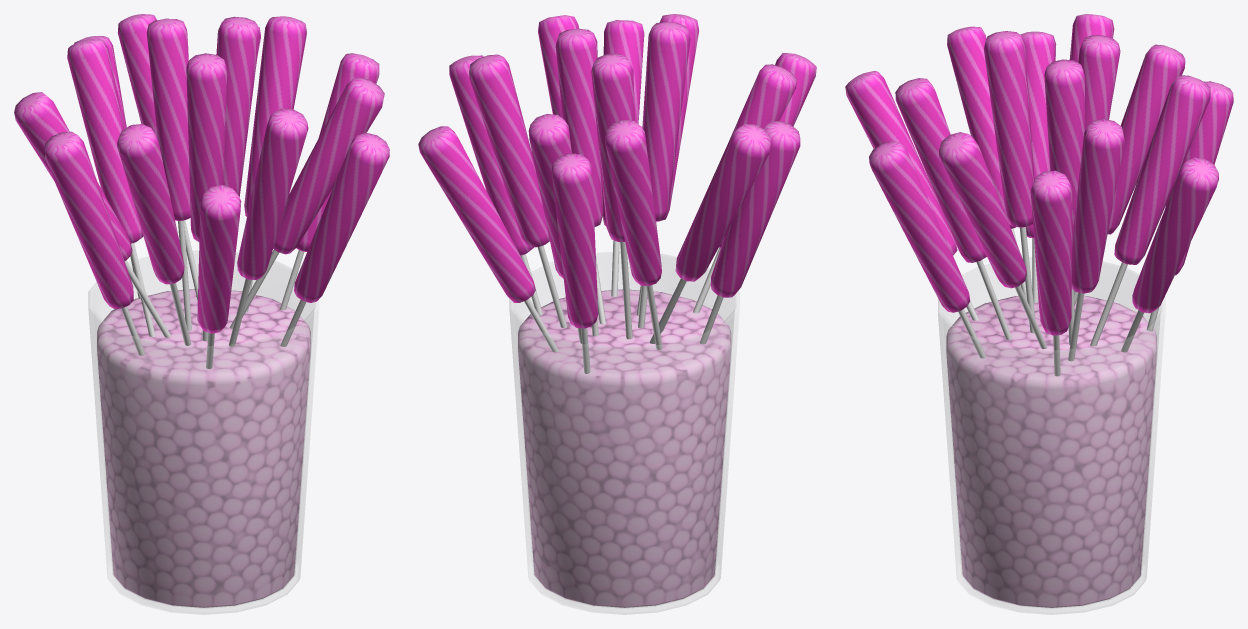
The model's file is BuffetCandy02_3.FBX.
The picture shows the model from 3 angles, left to right: view 1: azimuth 30°, elevation 25°; view 2: azimuth 150°, elevation 25°; view 3: azimuth 270°, elevation 25°; orthographic projection.
Visible parts, largest first — view 1: BuffetCandy02_3; view 2: BuffetCandy02_3; view 3: BuffetCandy02_3.
Boxes of the visible parts, left/top/right/bottom form: BuffetCandy02_3: left=14, top=14, right=389, bottom=614; BuffetCandy02_3: left=418, top=14, right=816, bottom=614; BuffetCandy02_3: left=845, top=14, right=1233, bottom=614.
Size of what is drawn, in the model's own units: 0.2206 by 0.3356 by 0.2224.
